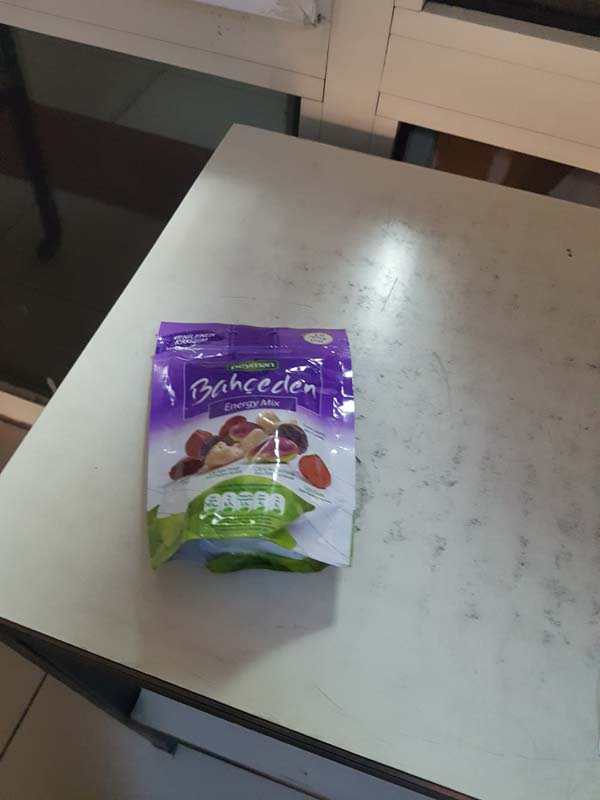bahcedenenergymix: (135, 318, 365, 582)
